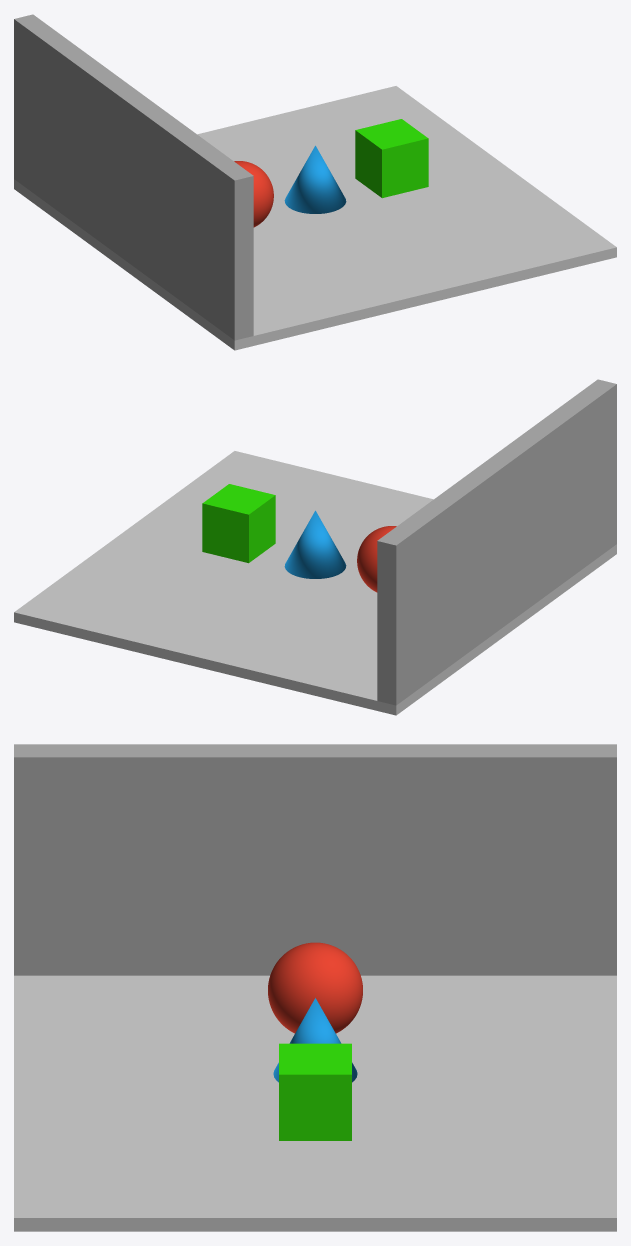
Rendered from TestScene.fbx.
3 views of the same model, one above another, from view 1: azimuth 30°, elevation 25°; view 2: azimuth 150°, elevation 25°; view 3: azimuth 270°, elevation 25° (orthographic). The views are drawn at different scales.
Visible parts, largest first — view 1: Floor, Wall, Cube, Cone, Sphere; view 2: Floor, Wall, Cube, Cone, Sphere; view 3: Floor, Wall, Cube, Sphere, Cone.
Part boxes in pixels (bbox=[...]): Floor: bbox=[14, 86, 616, 350]; Wall: bbox=[14, 14, 253, 340]; Cube: bbox=[355, 119, 428, 198]; Cone: bbox=[284, 145, 346, 213]; Sphere: bbox=[234, 161, 273, 227]; Floor: bbox=[14, 451, 616, 715]; Wall: bbox=[377, 379, 616, 705]; Cube: bbox=[202, 484, 275, 563]; Cone: bbox=[284, 510, 346, 578]; Sphere: bbox=[357, 526, 396, 592]; Floor: bbox=[14, 975, 616, 1231]; Wall: bbox=[14, 744, 616, 975]; Cube: bbox=[279, 1043, 351, 1140]; Sphere: bbox=[268, 942, 362, 1033]; Cone: bbox=[273, 998, 357, 1082].
Bounding box in the file's own units: 20 × 8.5 × 20.
